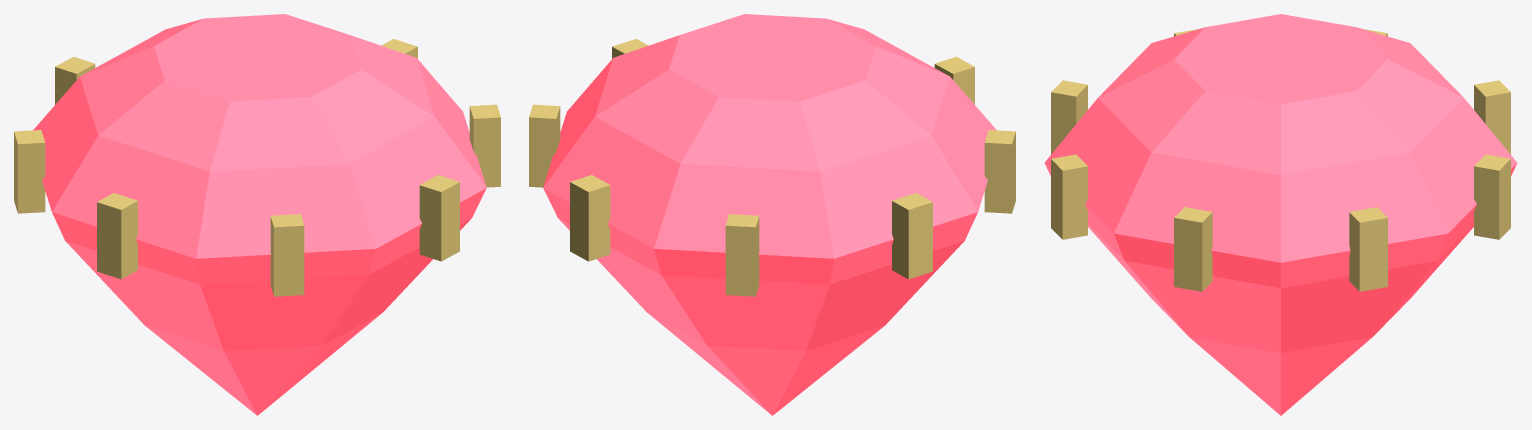
File: ruby.glb
3 views of the same model, side by side, from view 1: azimuth 30°, elevation 25°; view 2: azimuth 150°, elevation 25°; view 3: azimuth 270°, elevation 25° (orthographic).
Visible parts, largest first — view 1: 005-gem-spinning-ruby/body/ruby, 005-gem-spinning-ruby/body/gold; view 2: 005-gem-spinning-ruby/body/ruby, 005-gem-spinning-ruby/body/gold; view 3: 005-gem-spinning-ruby/body/ruby, 005-gem-spinning-ruby/body/gold.
Part boxes in pixels (box(x1,y1,x2,y2)): 005-gem-spinning-ruby/body/ruby: box(33, 14, 486, 415); 005-gem-spinning-ruby/body/gold: box(14, 39, 500, 296); 005-gem-spinning-ruby/body/ruby: box(543, 14, 996, 415); 005-gem-spinning-ruby/body/gold: box(529, 39, 1015, 296); 005-gem-spinning-ruby/body/ruby: box(1044, 14, 1517, 415); 005-gem-spinning-ruby/body/gold: box(1051, 28, 1510, 291).
Size of the model in its own units: 0.31 by 0.258 by 0.31.
